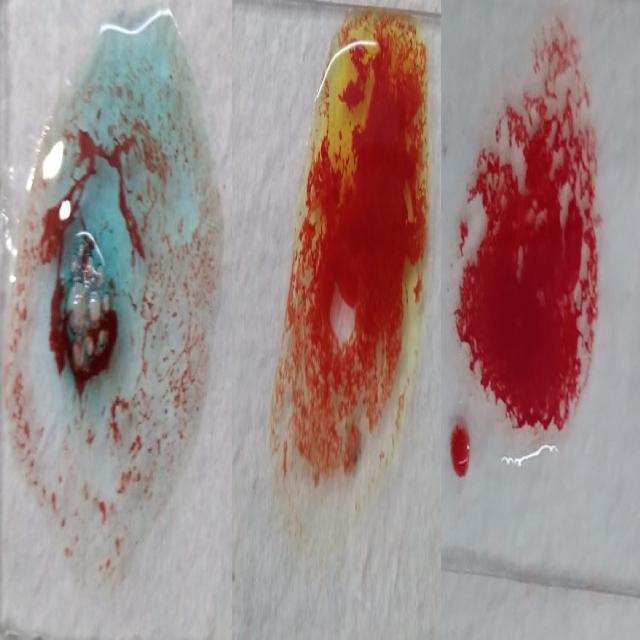A: (12, 25, 212, 577)
B: (278, 21, 424, 485)
D: (450, 27, 600, 455)
